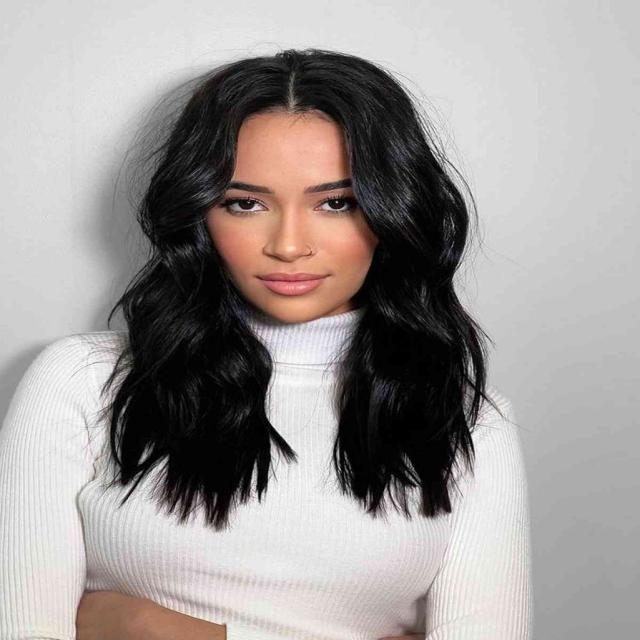Nonhelmet: (109, 47, 494, 351)
